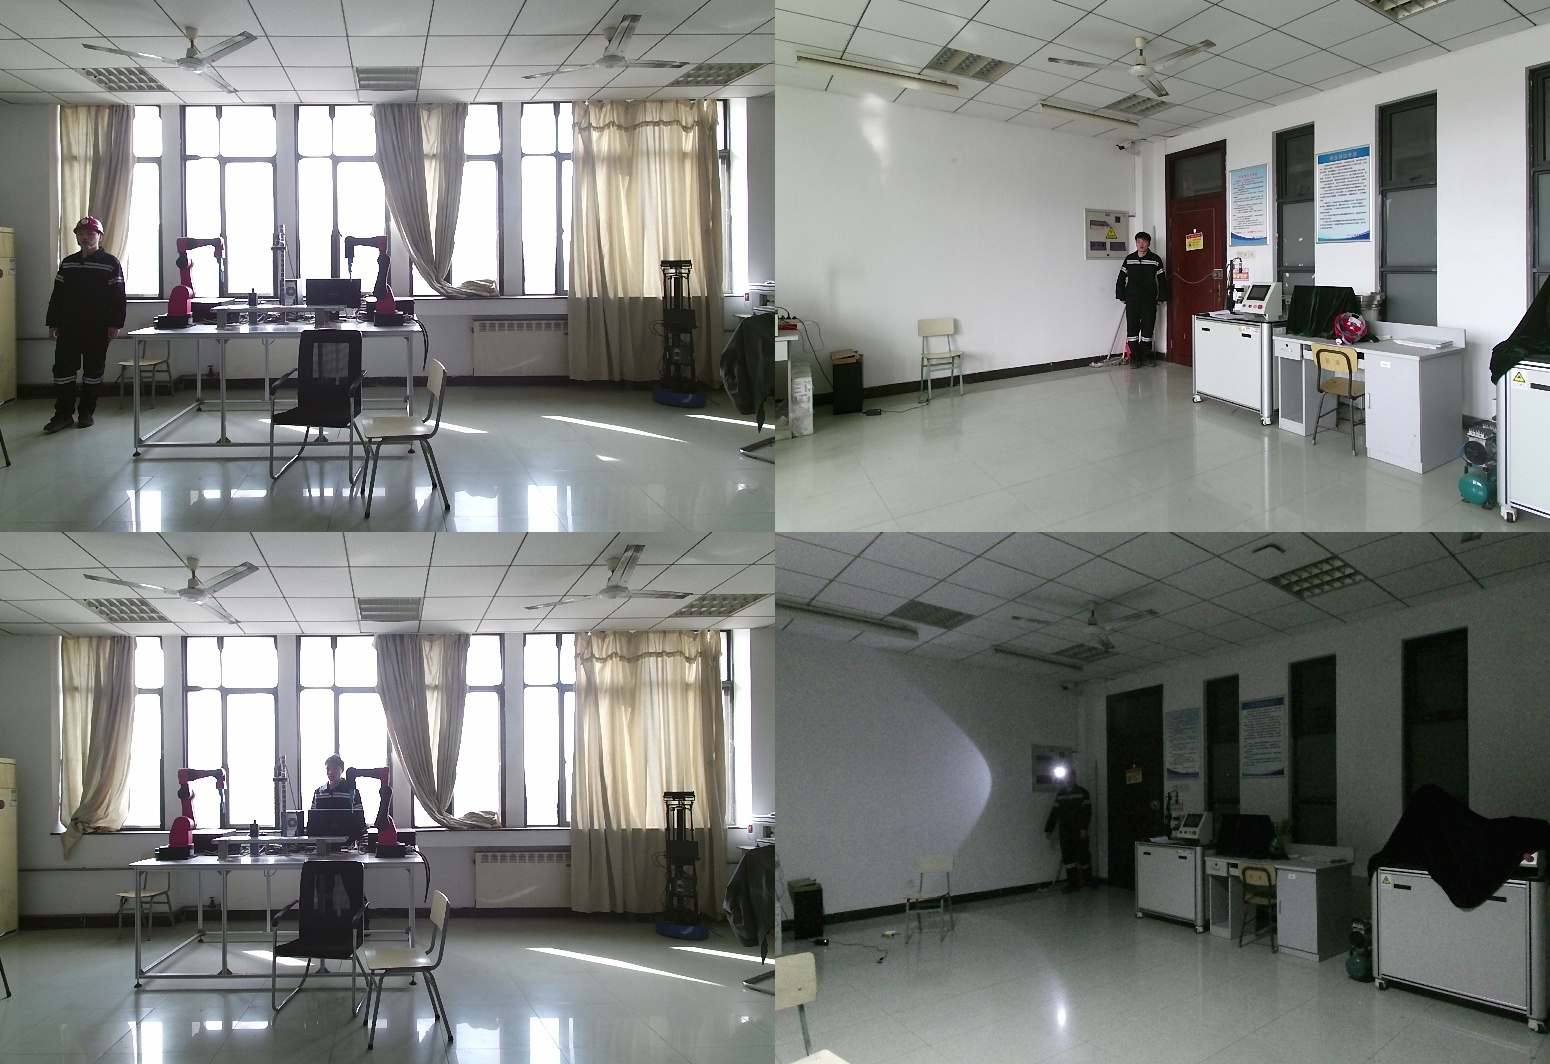person: (40, 215, 127, 433), (1118, 233, 1171, 370), (1043, 768, 1095, 898), (303, 755, 369, 833)
